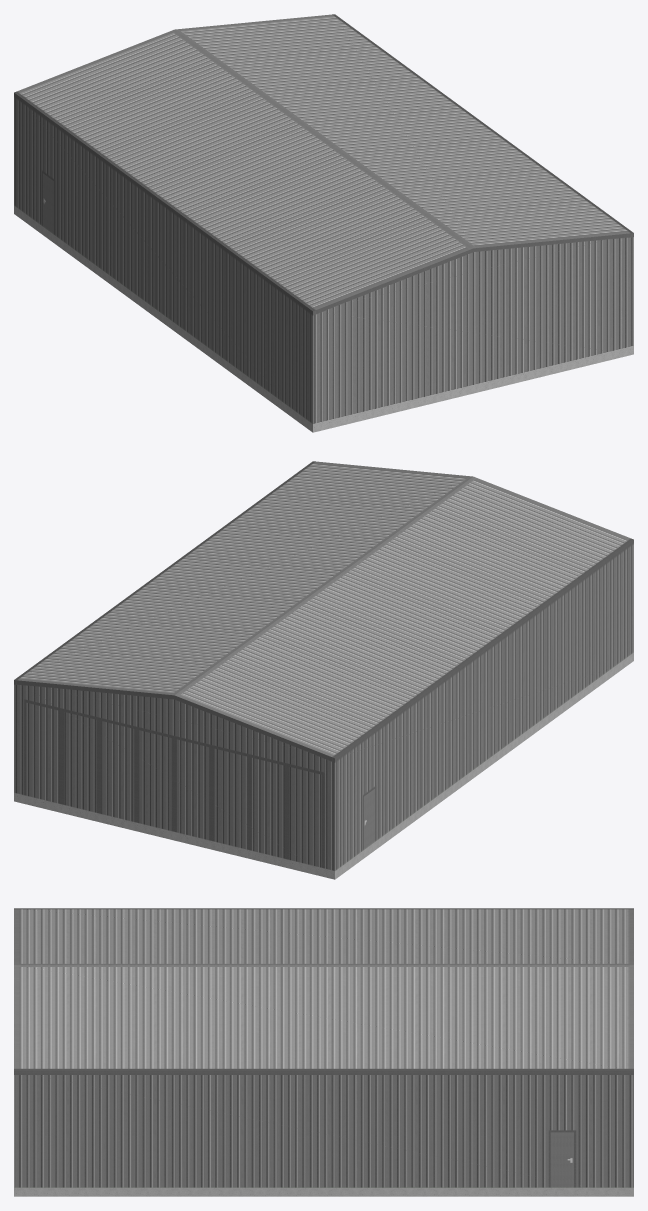
File: hangar-16x25x5grey-cbj_LOD01.gltf
The picture shows the model from 3 angles, top to bottom: view 1: azimuth 30°, elevation 25°; view 2: azimuth 150°, elevation 25°; view 3: azimuth 270°, elevation 25°; orthographic projection. The views are drawn at different scales.
Parts seen in each view (by area): view 1: hangar01; view 2: hangar01; view 3: hangar01.
Boxes of the visible parts, left/top/right/bottom form: hangar01: left=14, top=14, right=633, bottom=432; hangar01: left=14, top=461, right=633, bottom=879; hangar01: left=14, top=908, right=633, bottom=1196.
Bounding box in the file's own units: 15.5 × 6.7 × 25.
